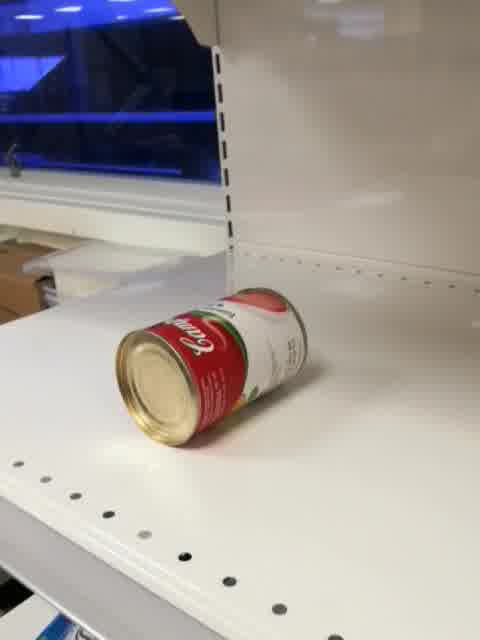tomatosoup: (114, 285, 311, 449)
